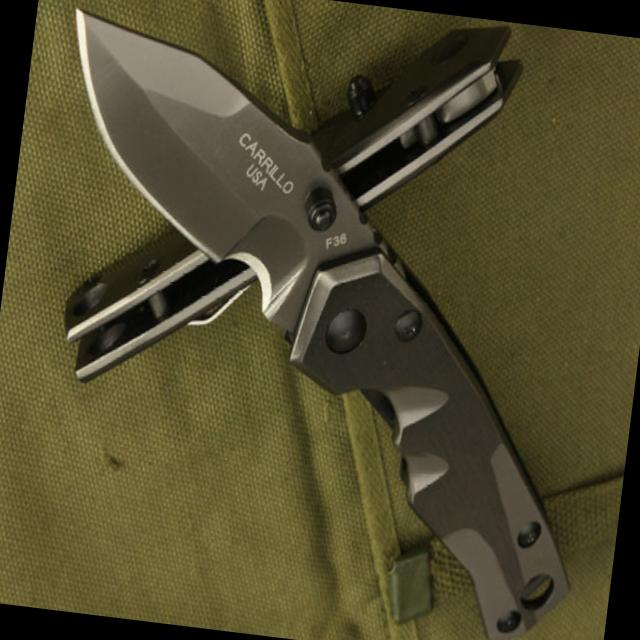knife: (2, 4, 627, 640)
